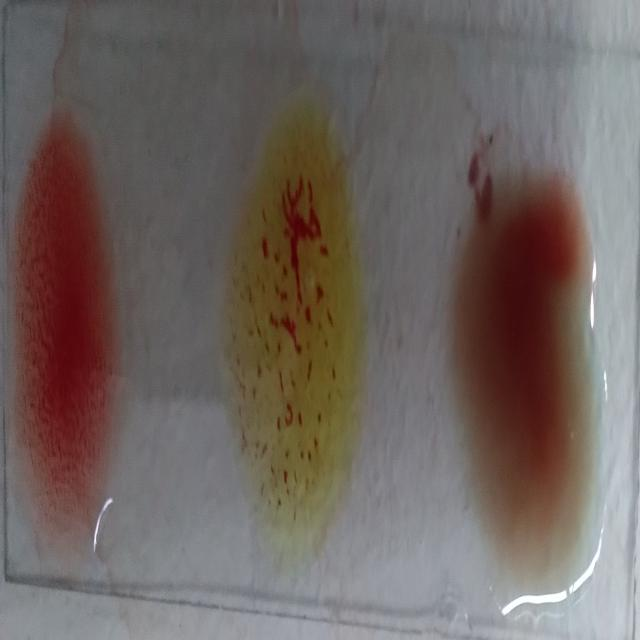B: (223, 92, 365, 556)
D: (17, 111, 111, 535)
